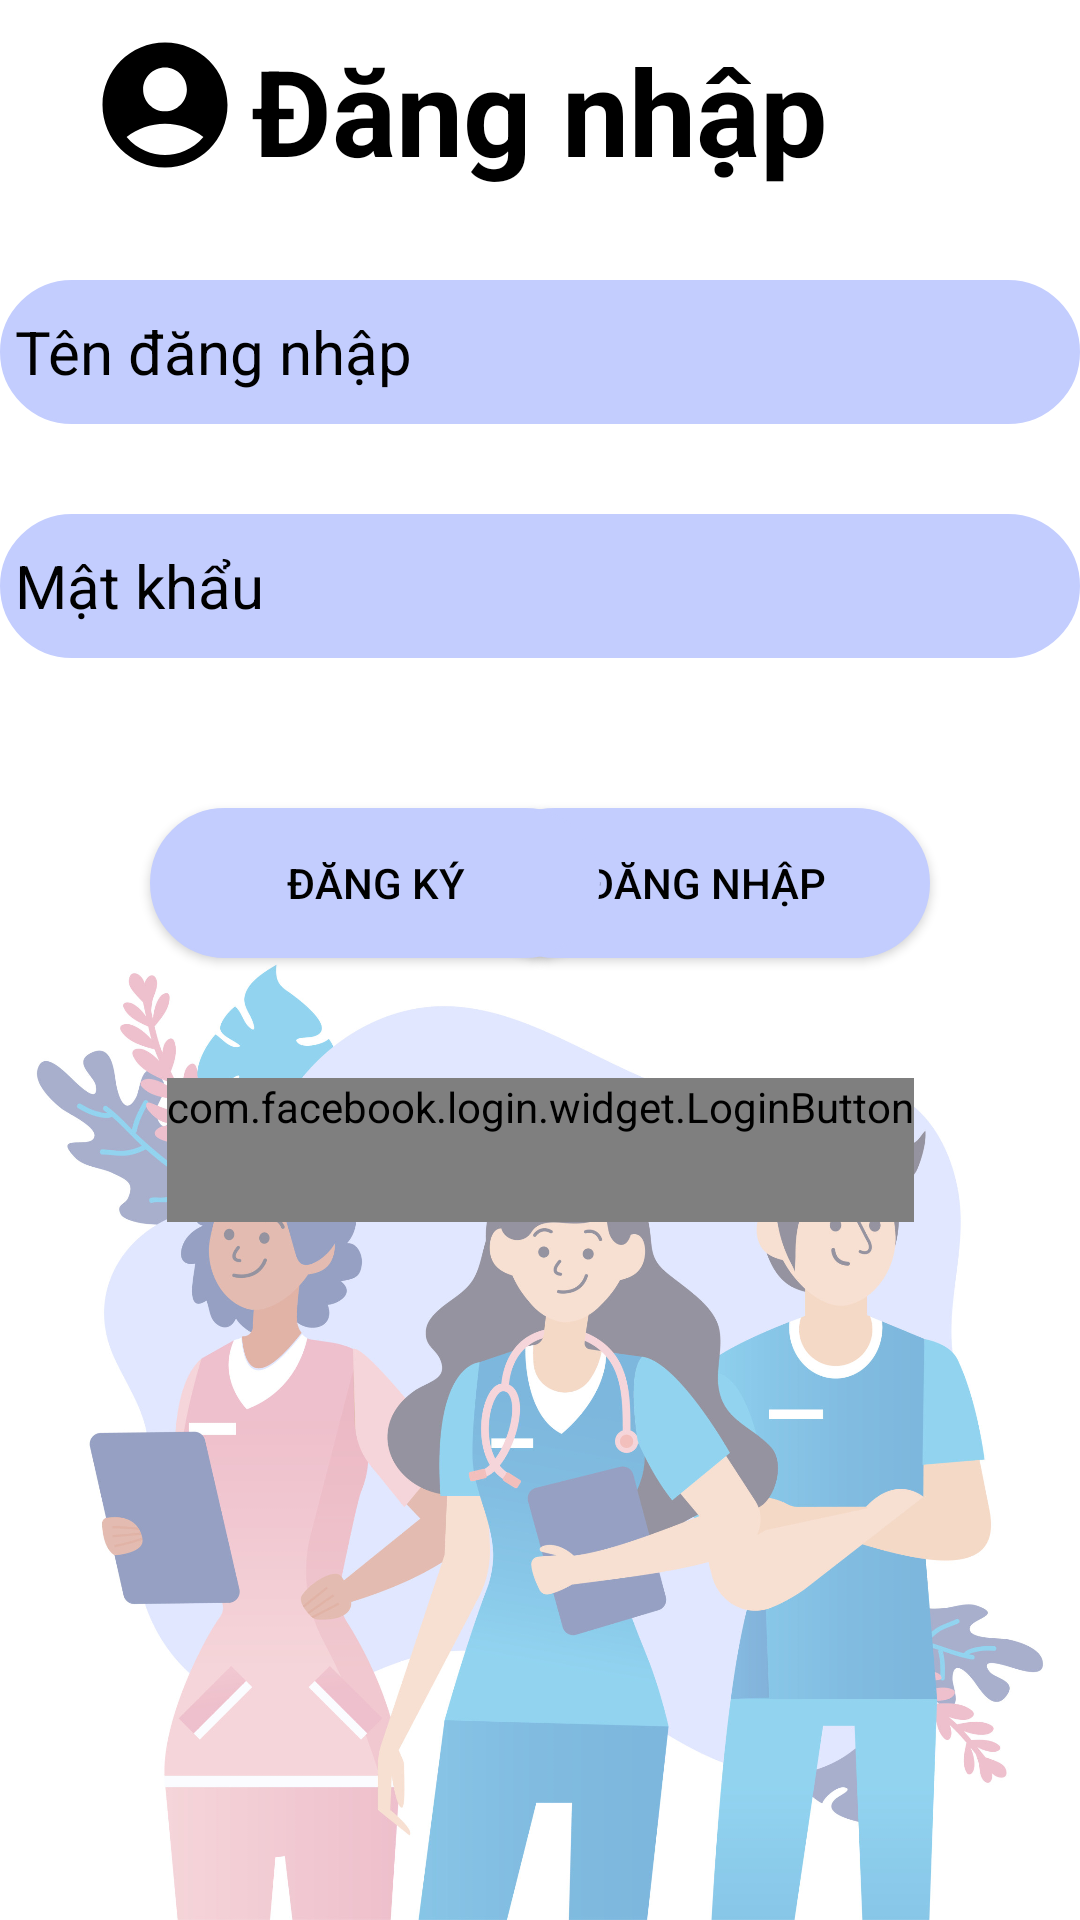

Locate icon controls on the screen. Image size 1080px x 1920px, boxes as (x1, y1, x2, y2).
account: (102, 42, 228, 168)
